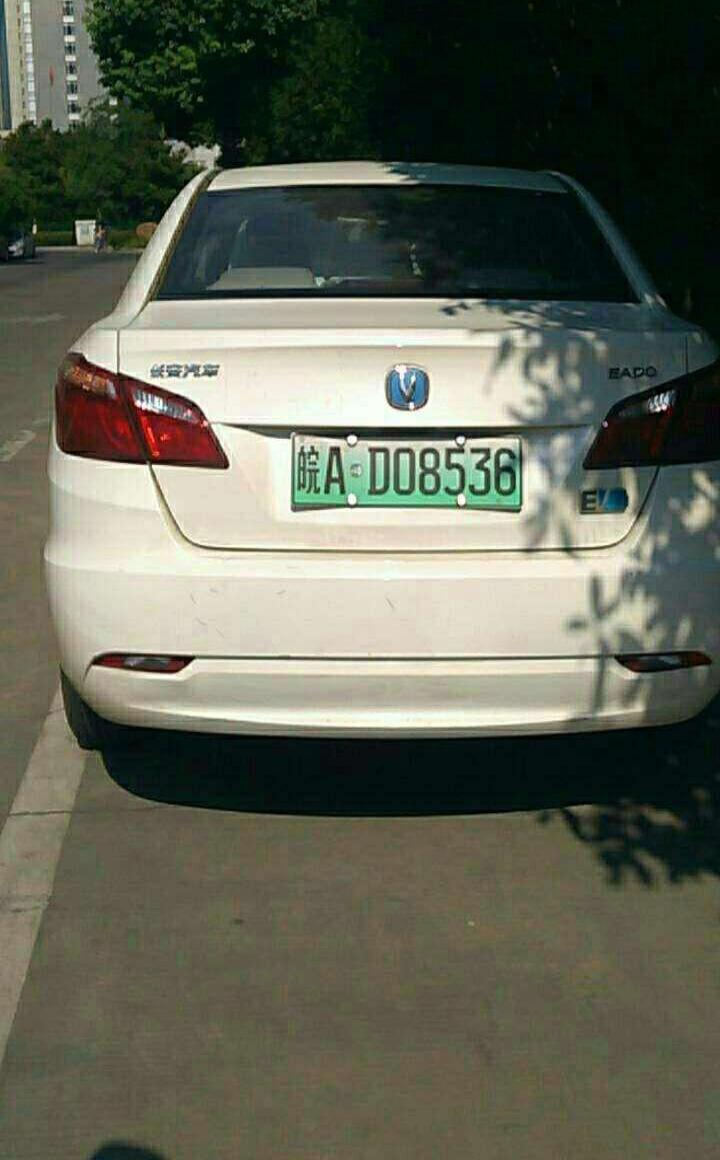car_id: (286, 428, 519, 511)
